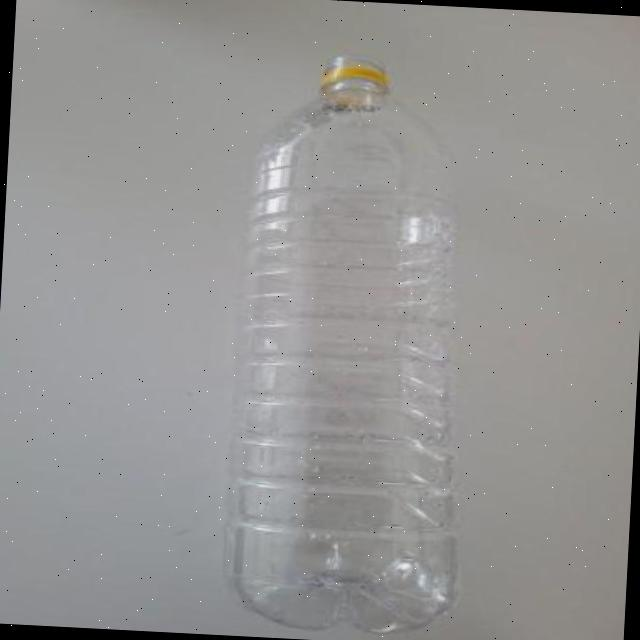bottle: (201, 36, 508, 640)
